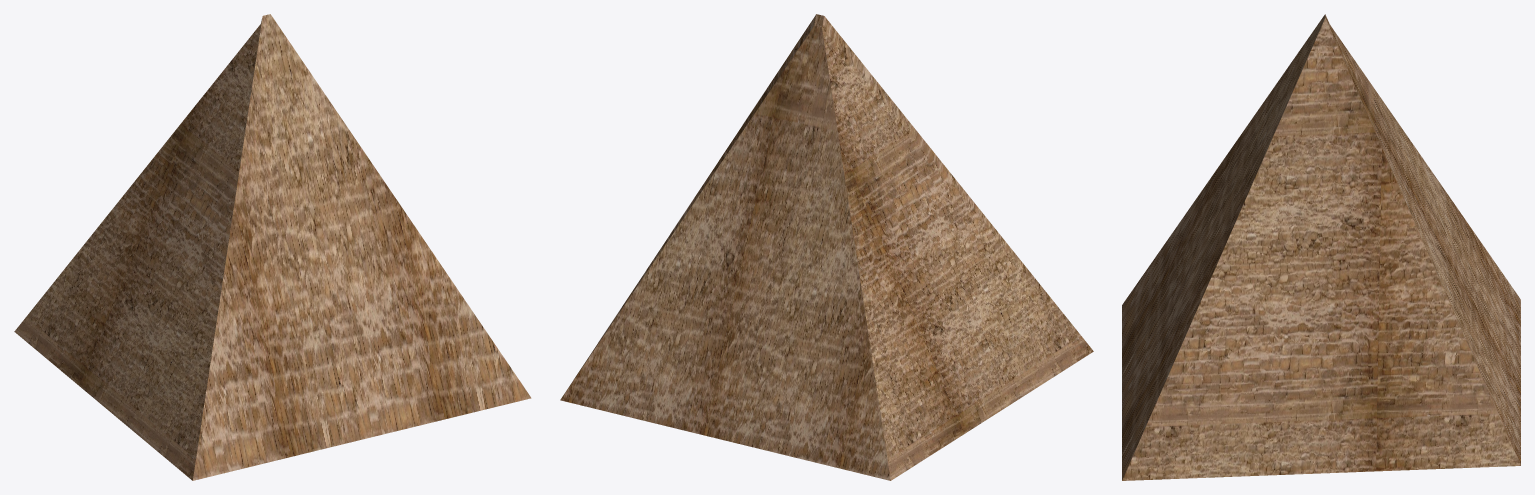
The model's file is piramide.glb.
3 views of the same model, side by side, from view 1: azimuth 30°, elevation 25°; view 2: azimuth 150°, elevation 25°; view 3: azimuth 270°, elevation 25° (orthographic). The views are drawn at different scales.
Visible parts, largest first — view 1: Cube_0; view 2: Cube_0; view 3: Cube_0.
Boxes of the visible parts, x1,y1,x2,y2 form: Cube_0: (14,14,531,480); Cube_0: (560,14,1093,480); Cube_0: (1122,14,1520,480).
Bounding box in the file's own units: 2.11 × 2.11 × 2.03.
1 material, 1 textured.
